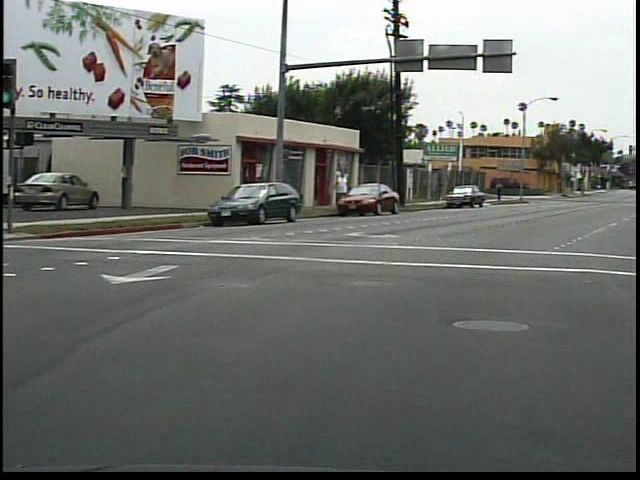person: (335, 163, 358, 212), (497, 177, 509, 204)
